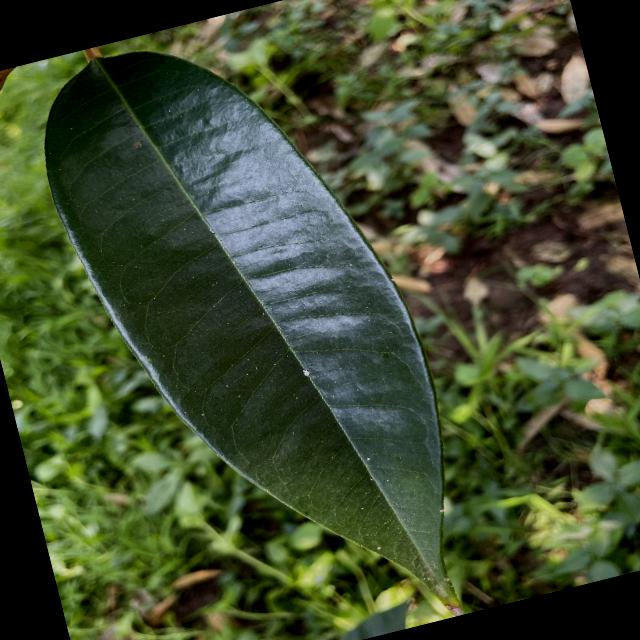No Disease: (11, 0, 494, 639)
